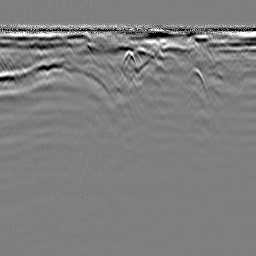cavity: (122, 47, 136, 66)
